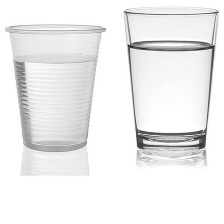glass: (118, 3, 224, 157), (0, 15, 108, 159)
